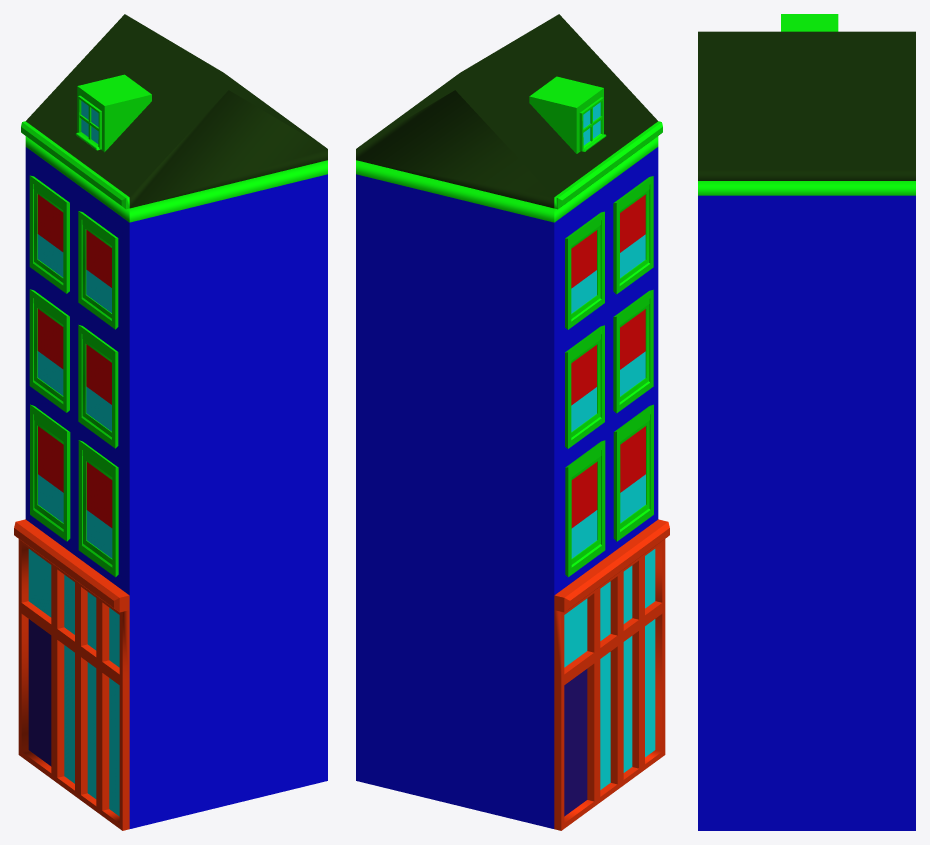
Rendered from Links_5.obj.
The picture shows the model from 3 angles, left to right: view 1: azimuth 30°, elevation 25°; view 2: azimuth 150°, elevation 25°; view 3: azimuth 270°, elevation 25°; orthographic projection. The views are drawn at different scales.
Visible parts, largest first — view 1: polySurface502; view 2: polySurface502; view 3: polySurface502.
Part boxes in pixels (left/top/right/bottom): polySurface502: left=14, top=14, right=327, bottom=830; polySurface502: left=356, top=14, right=669, bottom=830; polySurface502: left=698, top=14, right=915, bottom=830.
Size of the model in its own units: 12.25 by 39.49 by 10.41.
